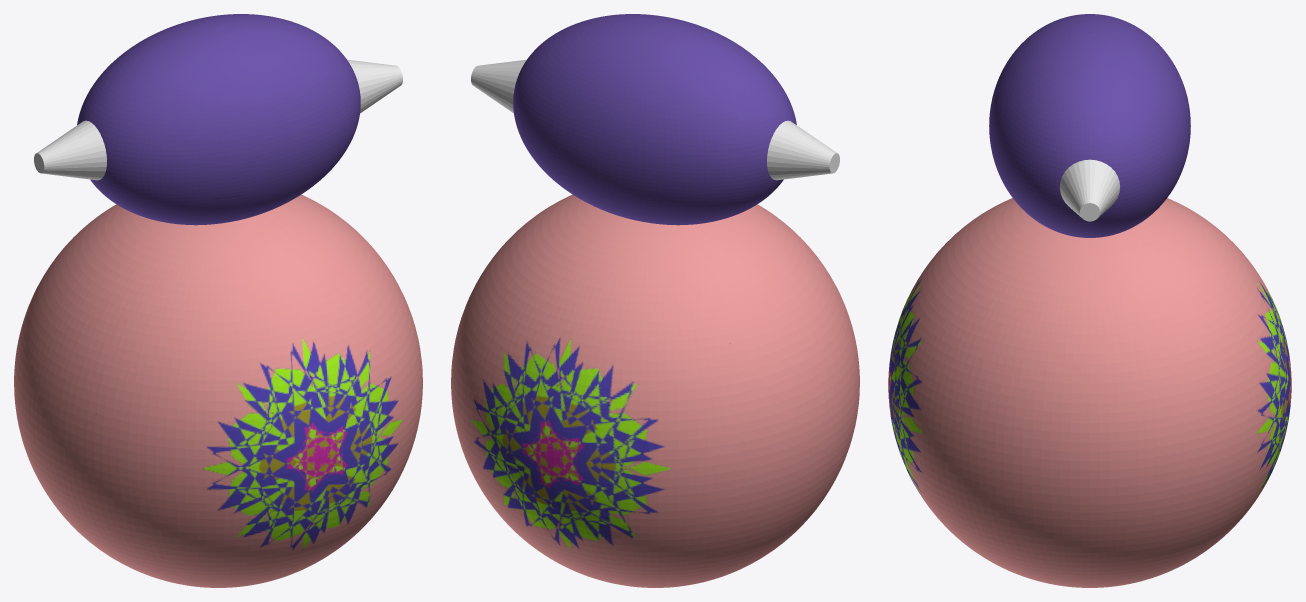
File: BOD0_BMC2_BCC11_BPT0_FRC25_HEA1_HMC4_HCC9_HPT0_ELT2_ERT2_ELL0_ERL2_AP0_AAL1_AAR2_BEK0.fbx
3 views of the same model, side by side, from view 1: azimuth 30°, elevation 25°; view 2: azimuth 150°, elevation 25°; view 3: azimuth 270°, elevation 25° (orthographic).
Visible parts, largest first — view 1: Body, Ear, Ear.001; view 2: Body, Ear, Ear.001; view 3: Body, Ear.001.
Boxes of the visible parts, box(x1,y1,x2,y2) form: Body: box(14, 14, 422, 587); Ear: box(34, 120, 106, 180); Ear.001: box(347, 59, 402, 113); Body: box(451, 14, 859, 587); Ear: box(767, 120, 839, 180); Ear.001: box(471, 59, 526, 113); Body: box(888, 14, 1291, 587); Ear.001: box(1060, 159, 1119, 221).
Size of the model in its own units: 50 by 72.41 by 49.36.
Materials: 1 (1 with a texture image).
